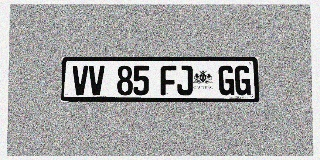5: (133, 65, 149, 95)
8: (117, 65, 133, 95)
F: (161, 65, 176, 95)
G: (218, 65, 234, 95), (235, 65, 251, 95)
J: (177, 65, 193, 95)
V: (72, 65, 88, 95), (89, 65, 105, 95)
